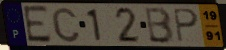1: (86, 8, 103, 42)
2: (114, 6, 141, 44)
B: (144, 6, 176, 45)
C: (50, 6, 82, 44)
E: (21, 5, 54, 45)
P: (172, 7, 200, 44)
